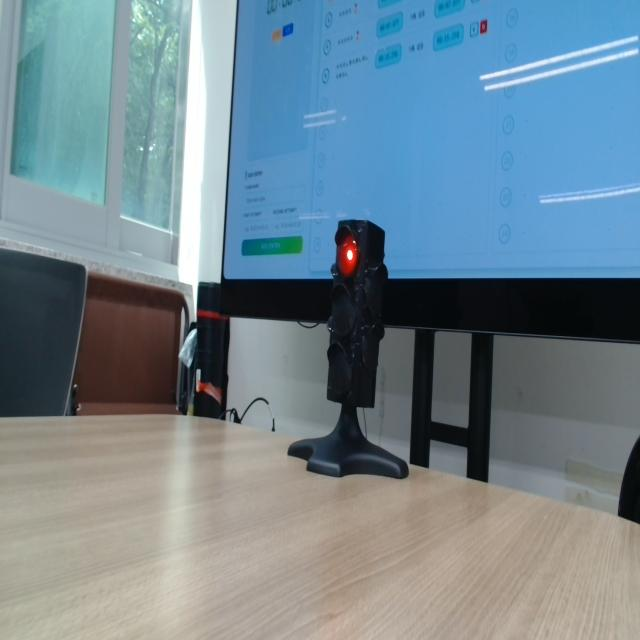red_light: (337, 235, 358, 277)
